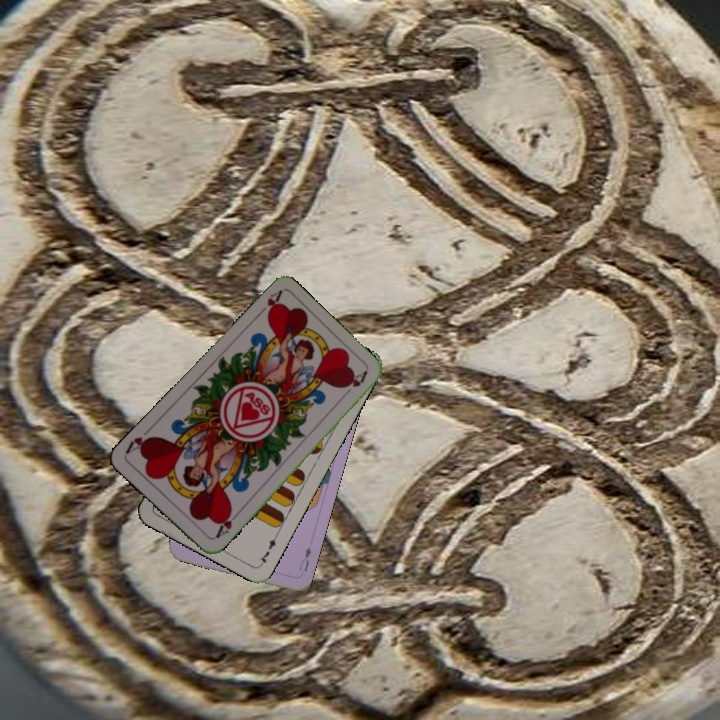E7: (255, 530, 280, 568)
EU: (295, 543, 314, 574)
HA: (211, 505, 241, 541), (252, 287, 284, 320)
